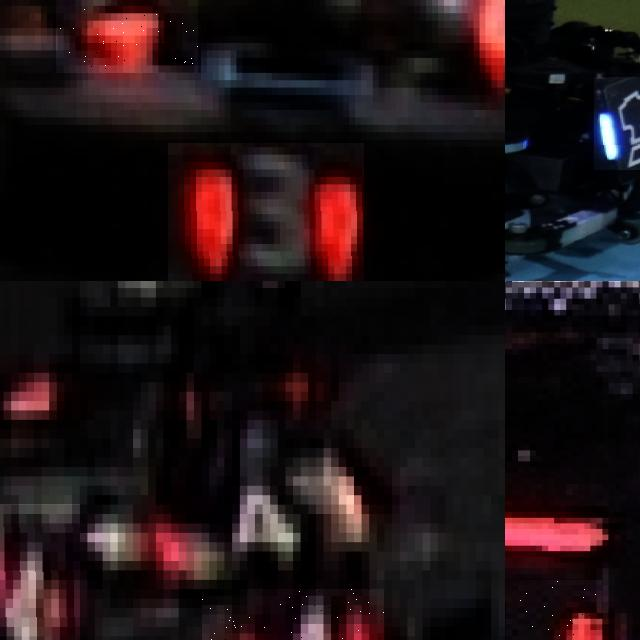Bs: (594, 76, 640, 170)
R1: (505, 579, 602, 640)
R3: (168, 143, 363, 281), (56, 0, 198, 72)
R4: (0, 504, 79, 640), (201, 589, 384, 640)
